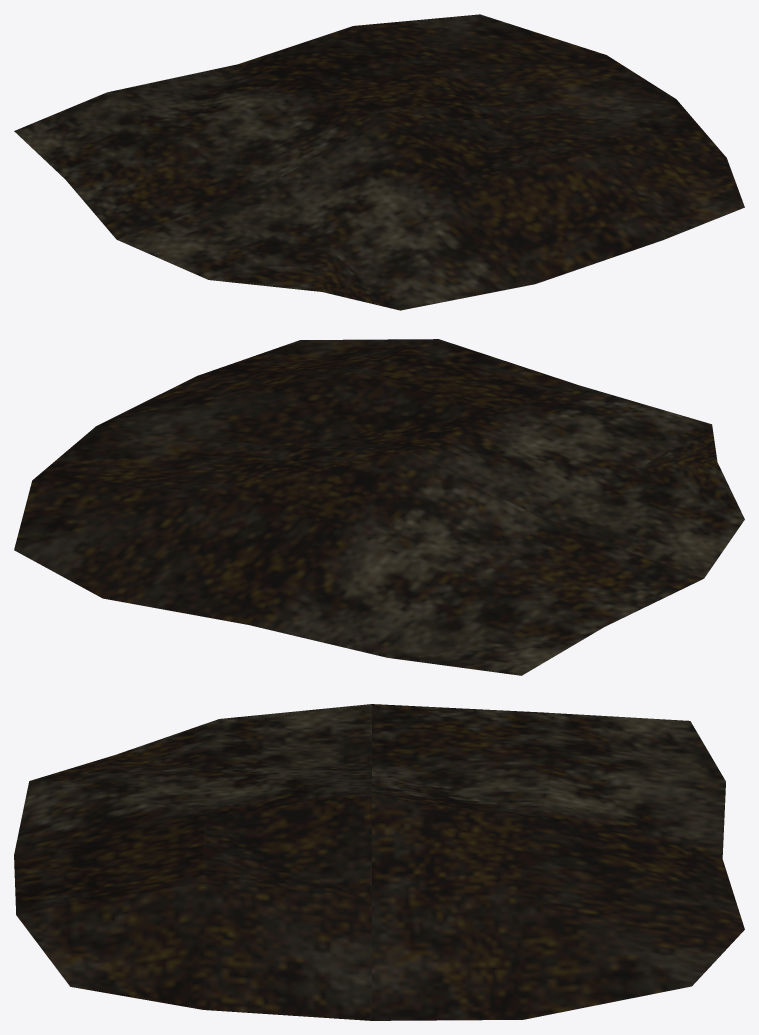
File: SM_EC_Horror_Hay_Patch_6.fbx
The picture shows the model from 3 angles, top to bottom: view 1: azimuth 30°, elevation 25°; view 2: azimuth 150°, elevation 25°; view 3: azimuth 270°, elevation 25°; orthographic projection. The views are drawn at different scales.
Visible parts, largest first — view 1: SM_EC_Horror_Hay_Patch_6; view 2: SM_EC_Horror_Hay_Patch_6; view 3: SM_EC_Horror_Hay_Patch_6.
Part boxes in pixels (x1,y1,x2,y2): SM_EC_Horror_Hay_Patch_6: (14, 14, 744, 310); SM_EC_Horror_Hay_Patch_6: (14, 339, 744, 675); SM_EC_Horror_Hay_Patch_6: (14, 704, 744, 1020).
Bounding box in the file's own units: 2.08 × 2 × 0.1791.
